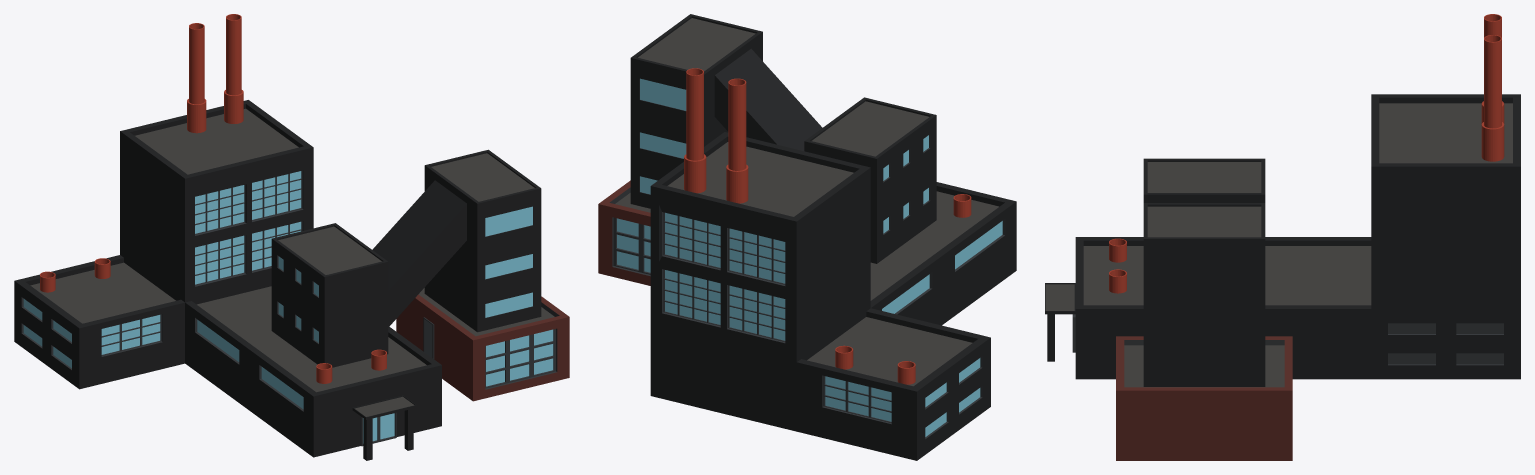
Rendered from SM_Factory_02_B.gltf.
The picture shows the model from 3 angles, left to right: view 1: azimuth 30°, elevation 25°; view 2: azimuth 150°, elevation 25°; view 3: azimuth 270°, elevation 25°; orthographic projection. The views are drawn at different scales.
Visible parts, largest first — view 1: SM_Factory_02_B; view 2: SM_Factory_02_B; view 3: SM_Factory_02_B.
Part boxes in pixels (left/top/right/bottom): SM_Factory_02_B: left=14, top=14, right=569, bottom=460; SM_Factory_02_B: left=598, top=14, right=1016, bottom=460; SM_Factory_02_B: left=1045, top=14, right=1520, bottom=460.
Bounding box in the file's own units: 8.74 × 6.32 × 8.25.
